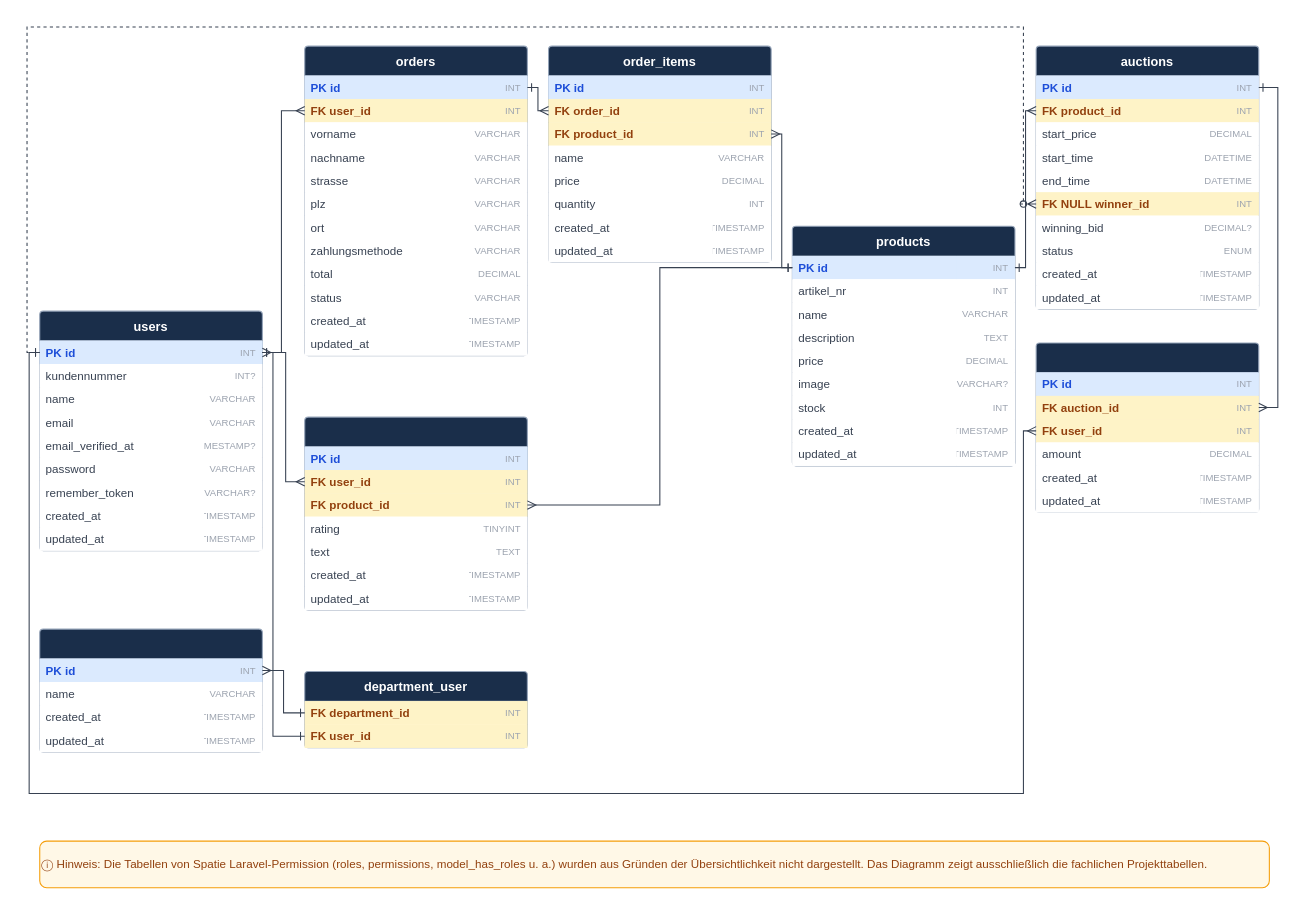
The diagram is 1306 pixels wide and 906 high, and some of its shapes have lost their labels. Each missing label, with the box of its shape:
bids: (1035, 342, 1259, 513)
departments: (39, 628, 262, 752)
reviews: (304, 416, 527, 610)
